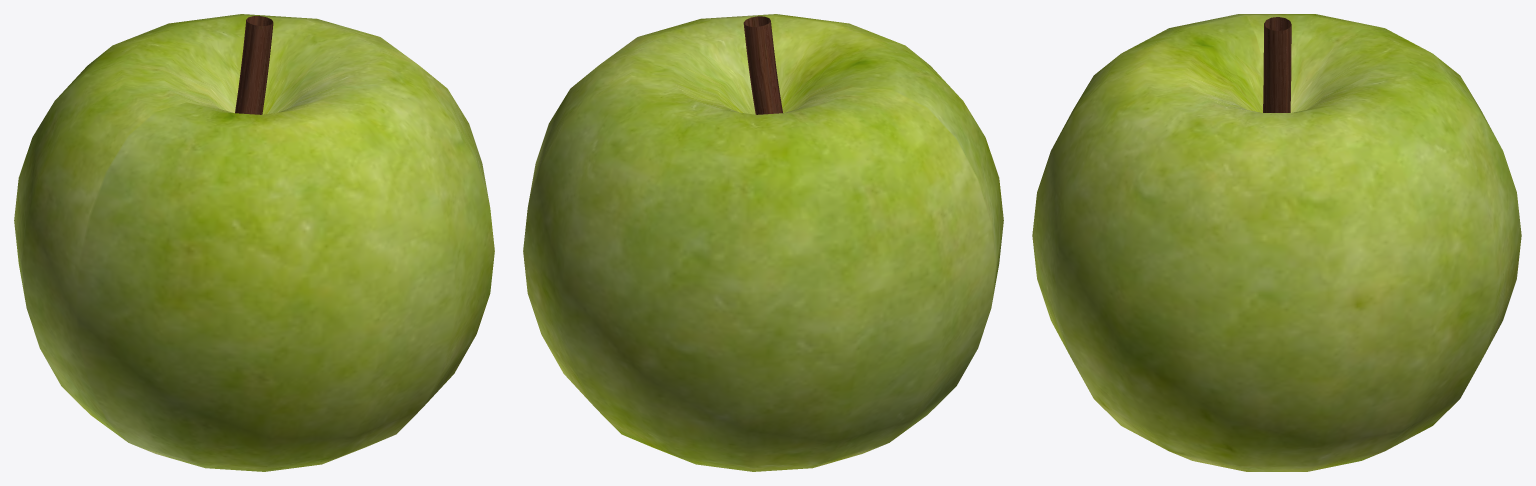
The model's file is jambu biji.glb.
3 views of the same model, side by side, from view 1: azimuth 30°, elevation 25°; view 2: azimuth 150°, elevation 25°; view 3: azimuth 270°, elevation 25° (orthographic).
Parts seen in each view (by area): view 1: Sphere, NurbsPath; view 2: Sphere, NurbsPath; view 3: Sphere, NurbsPath.
Part boxes in pixels (x1,y1,x2,y2): Sphere: [14, 14, 494, 471]; NurbsPath: [235, 16, 273, 114]; Sphere: [523, 14, 1003, 471]; NurbsPath: [743, 16, 782, 114]; Sphere: [1032, 14, 1521, 471]; NurbsPath: [1263, 17, 1291, 112].
Bounding box in the file's own units: 0.4731 × 0.4538 × 0.4853.
2 materials, 2 textured.
